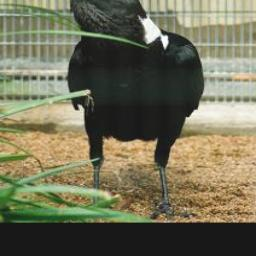Crow: (41, 0, 204, 220)
